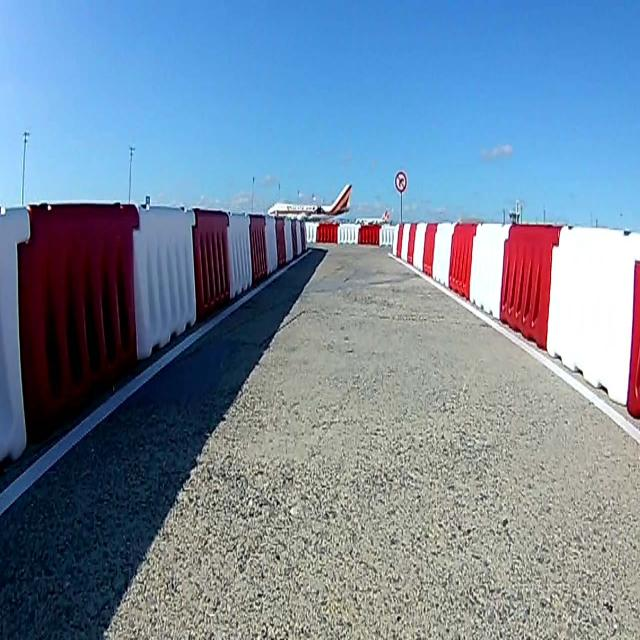sagadonulmez: (395, 171, 407, 193)
